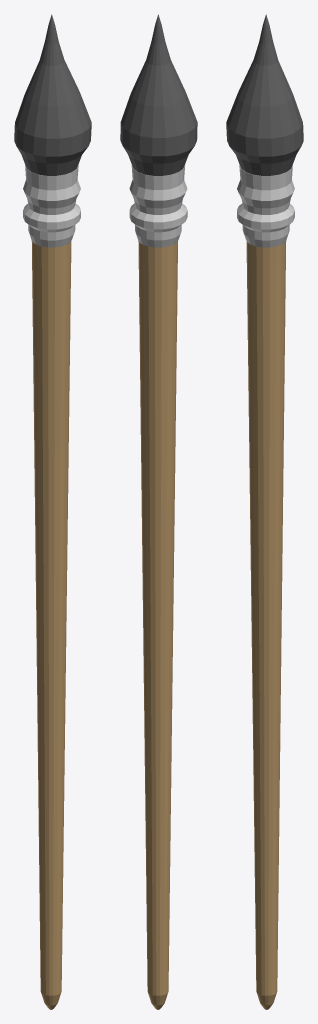
The model's file is ARTBRUSH.glb.
3 views of the same model, side by side, from view 1: azimuth 90°, elevation 25°; view 2: azimuth 150°, elevation 25°; view 3: azimuth 270°, elevation 25° (orthographic).
Parts seen in each view (by area): view 1: _0; view 2: _0; view 3: _0.
Part boxes in pixels (x1,y1,x2,y2): _0: (14, 14, 91, 1009); _0: (120, 14, 197, 1009); _0: (226, 14, 303, 1009).
Bounding box in the file's own units: 0.4394 × 6.37 × 0.4506.
